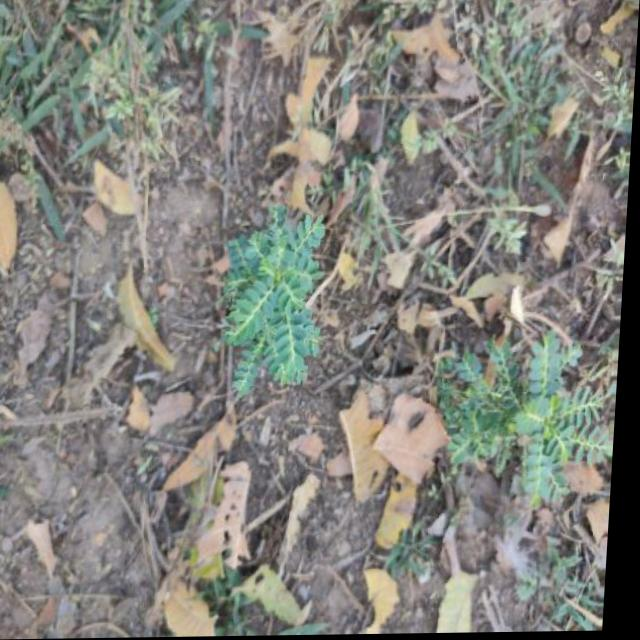weed: (197, 169, 367, 400), (430, 327, 616, 482)
